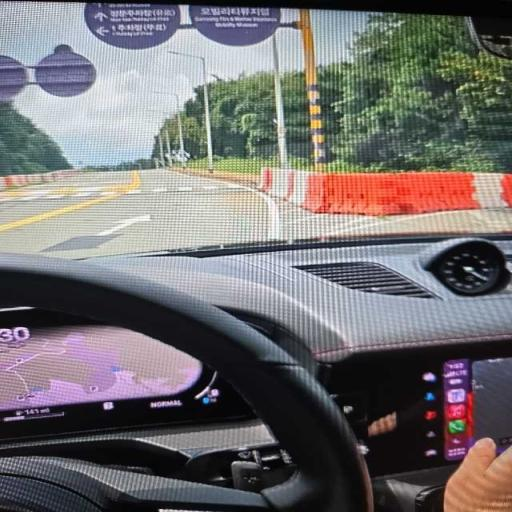car: (0, 2, 511, 511)
lane: (0, 170, 269, 257)
person: (444, 439, 511, 511)
